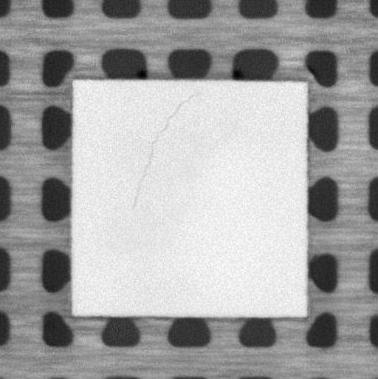DIE_CRACK: (129, 94, 193, 205)
